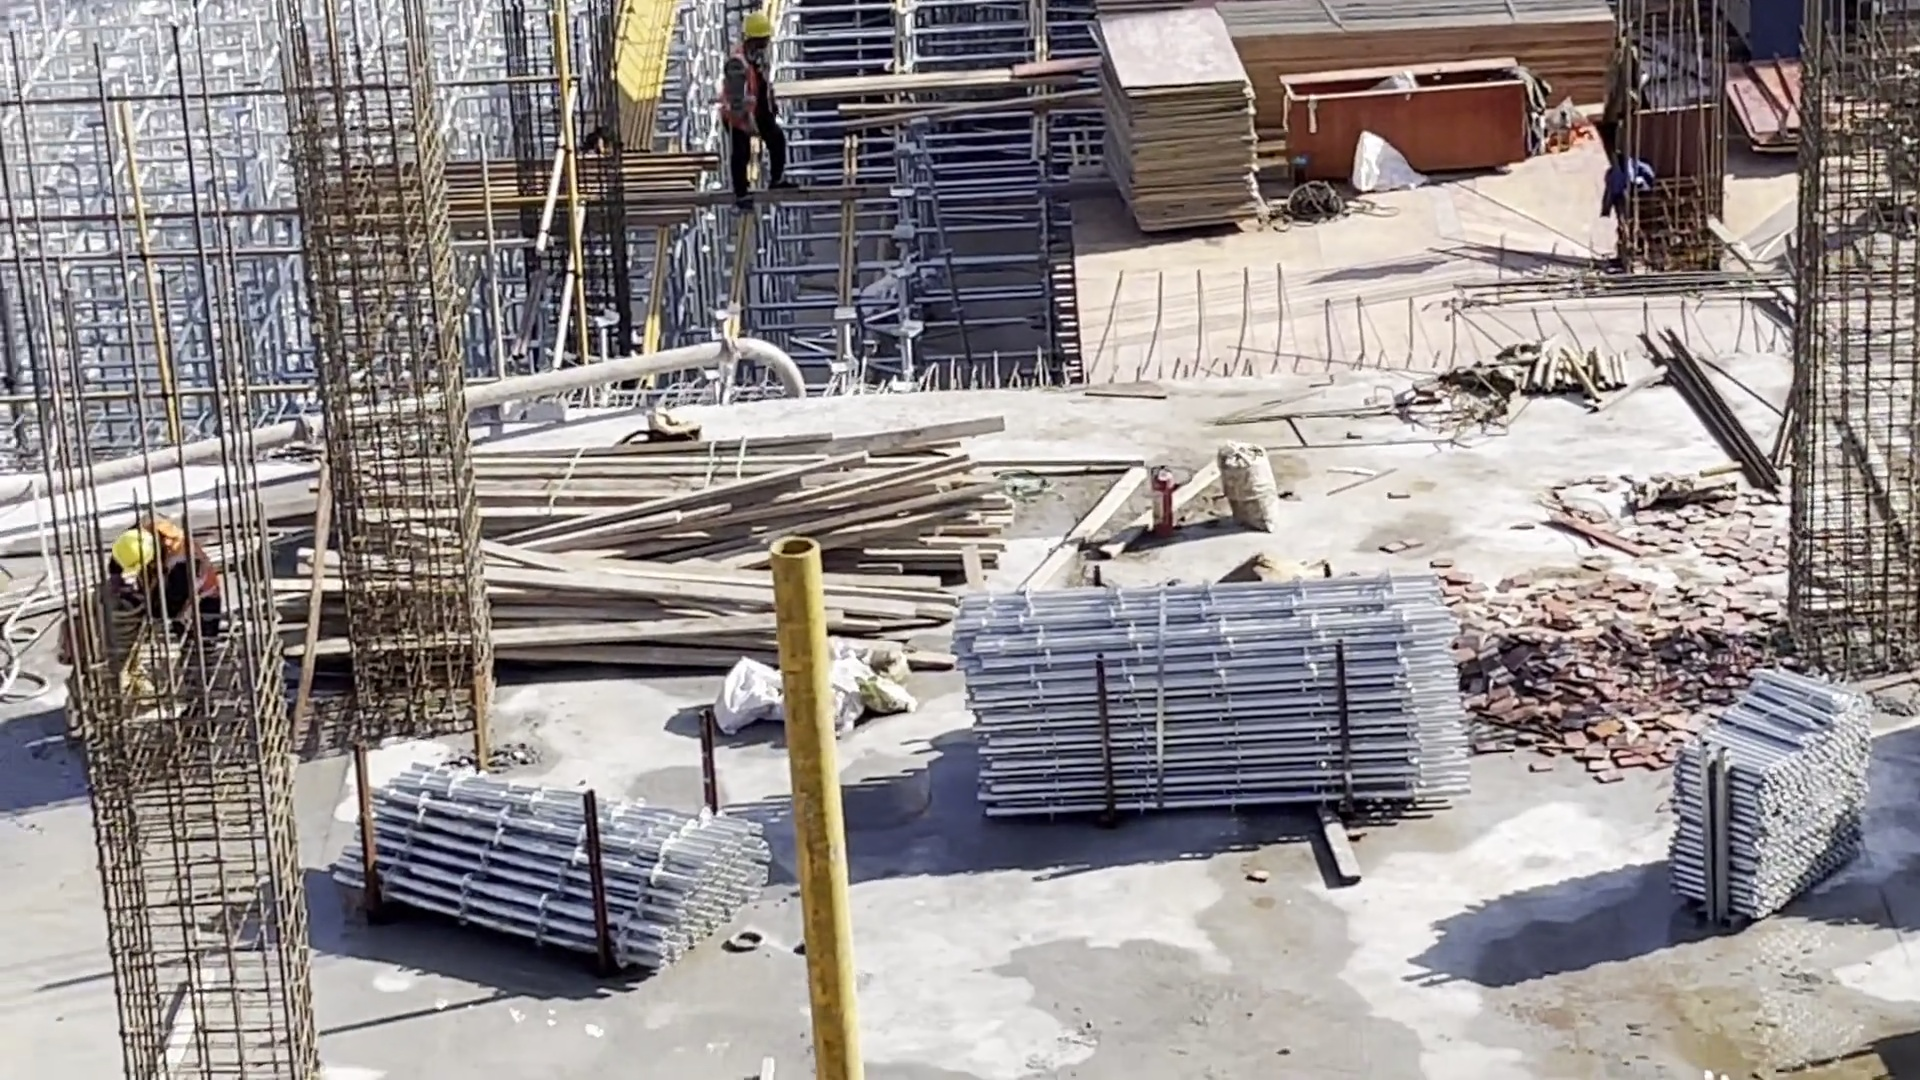board: (1095, 3, 1272, 245)
helmet: (111, 530, 152, 576), (739, 13, 773, 39)
person: (108, 522, 230, 646), (722, 13, 797, 206)
scaffold: (959, 571, 1480, 820), (333, 761, 776, 971), (1672, 670, 1869, 918)
vest: (159, 527, 217, 606), (725, 53, 776, 134)
wood: (325, 416, 1015, 692), (1226, 1, 1614, 83)
